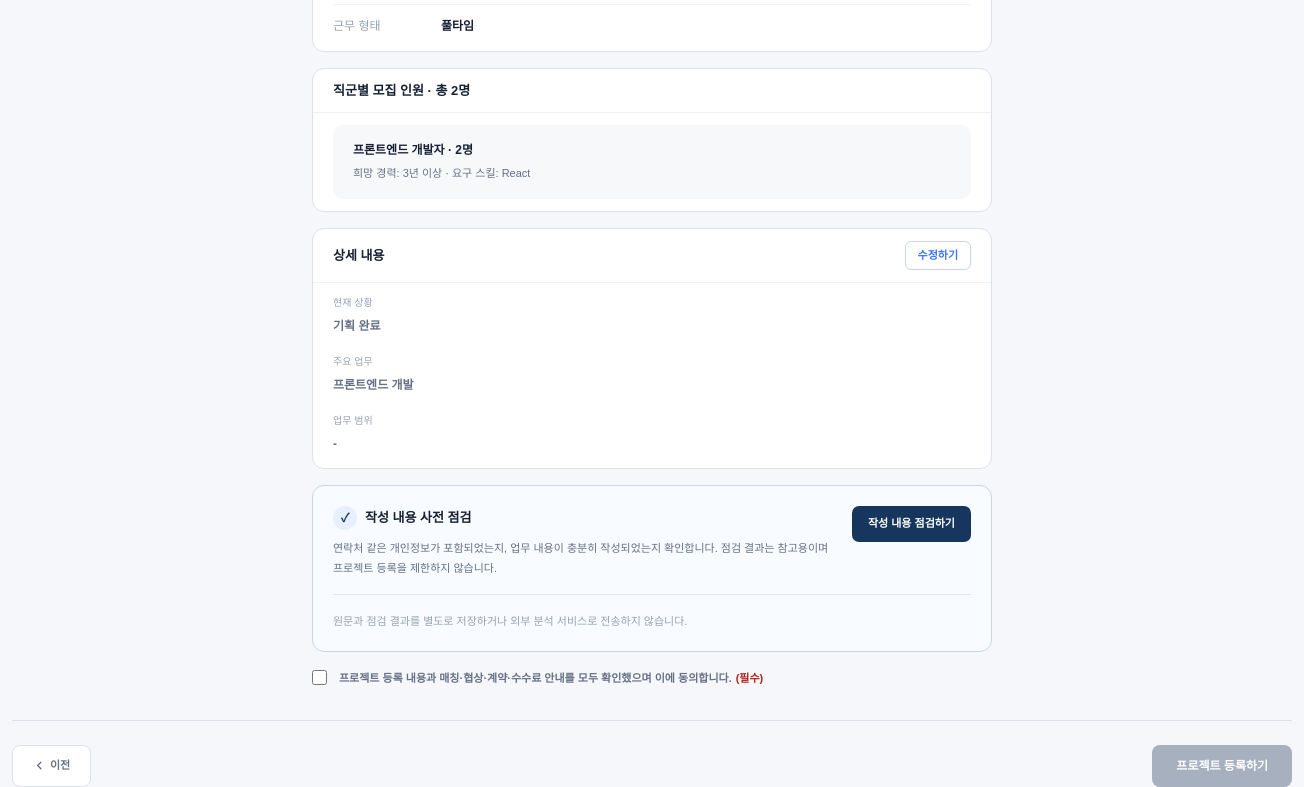
ProjectConfirm › 등록에 실패하면 오류 메시지를 표시하고 다시 제출할 수 있다
The image size is (1304, 787).
(page scrolled)
Step 1. Click the checkbox → (320,677), box left=312, top=670, right=327, bottom=684
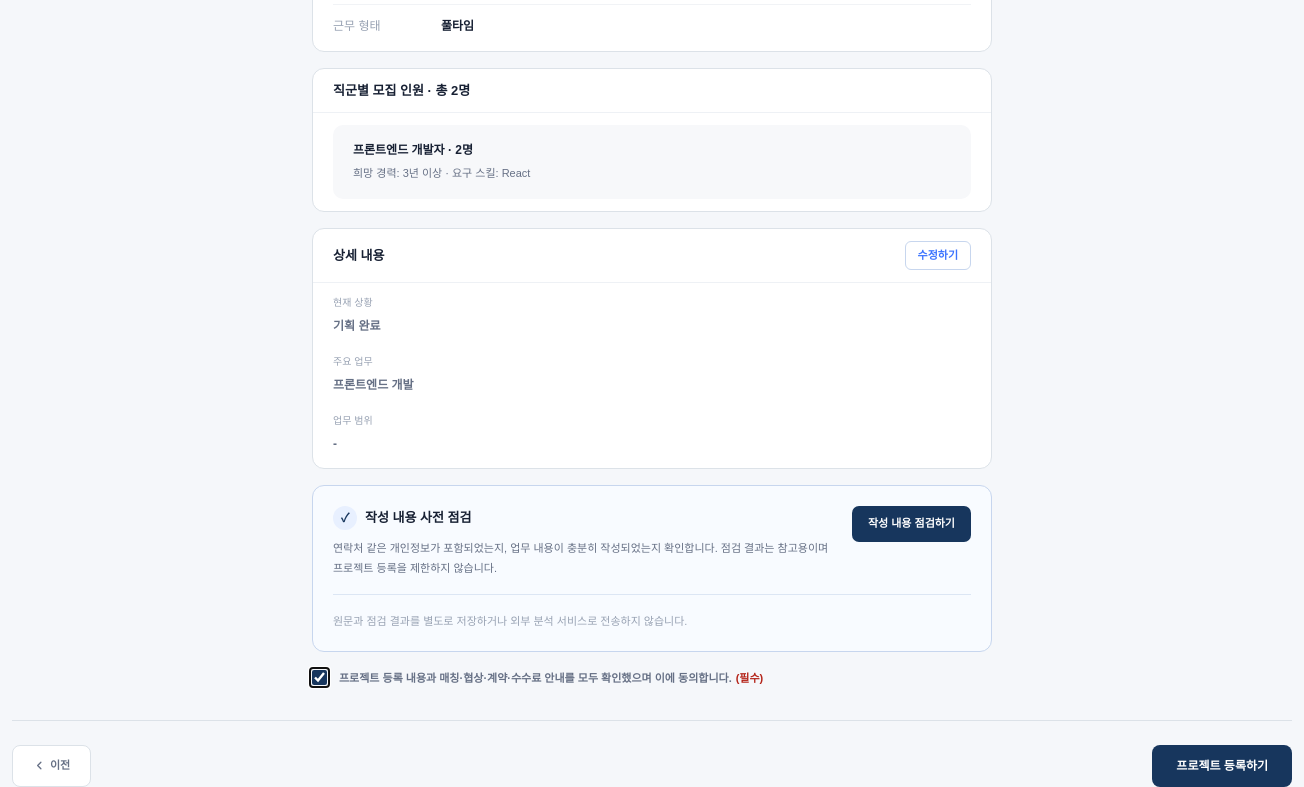
Step 2. Click the button "프로젝트 등록하기" → (1222,766), box left=1152, top=744, right=1292, bottom=786
(page scrolled)
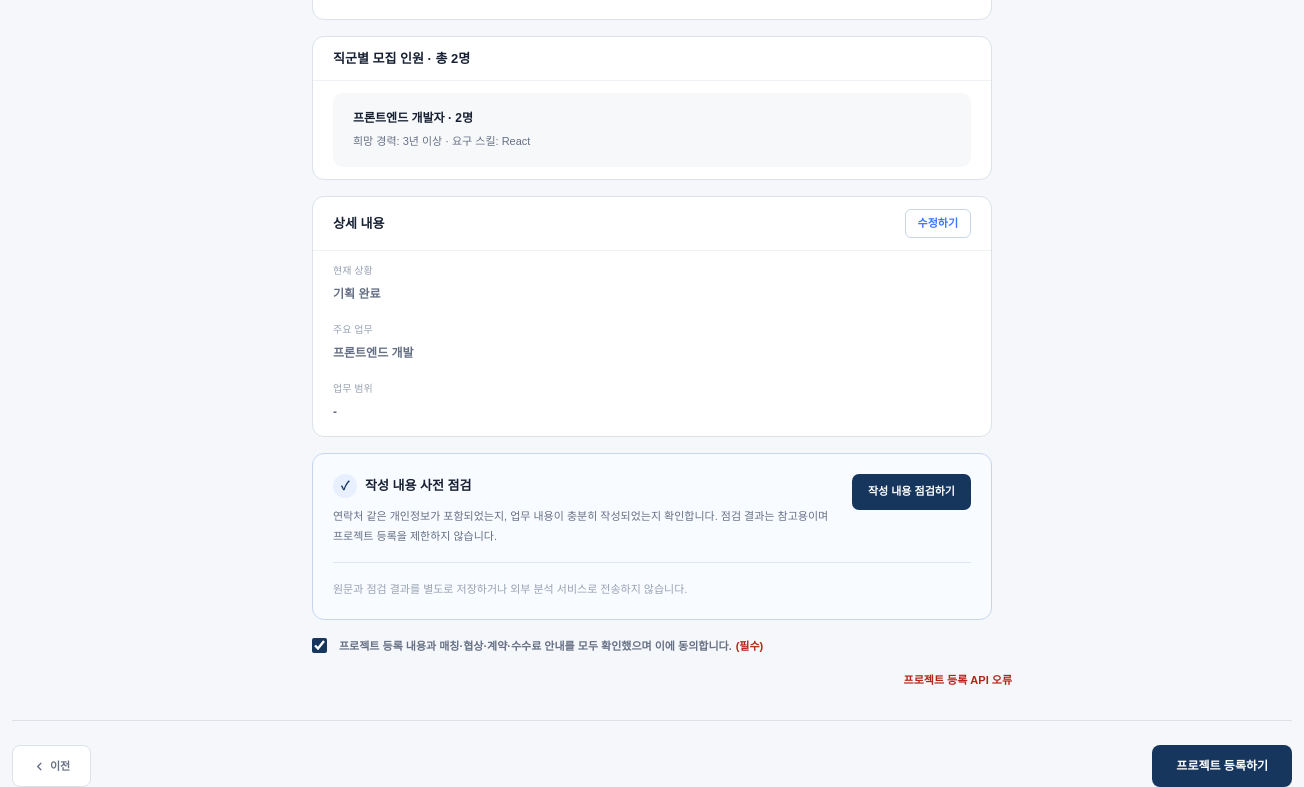
Check: the button "프로젝트 등록하기" is enabled, box left=1152, top=745, right=1292, bottom=786
Check: the message reads "프로젝트 등록 API 오류", box left=904, top=674, right=1012, bottom=686
